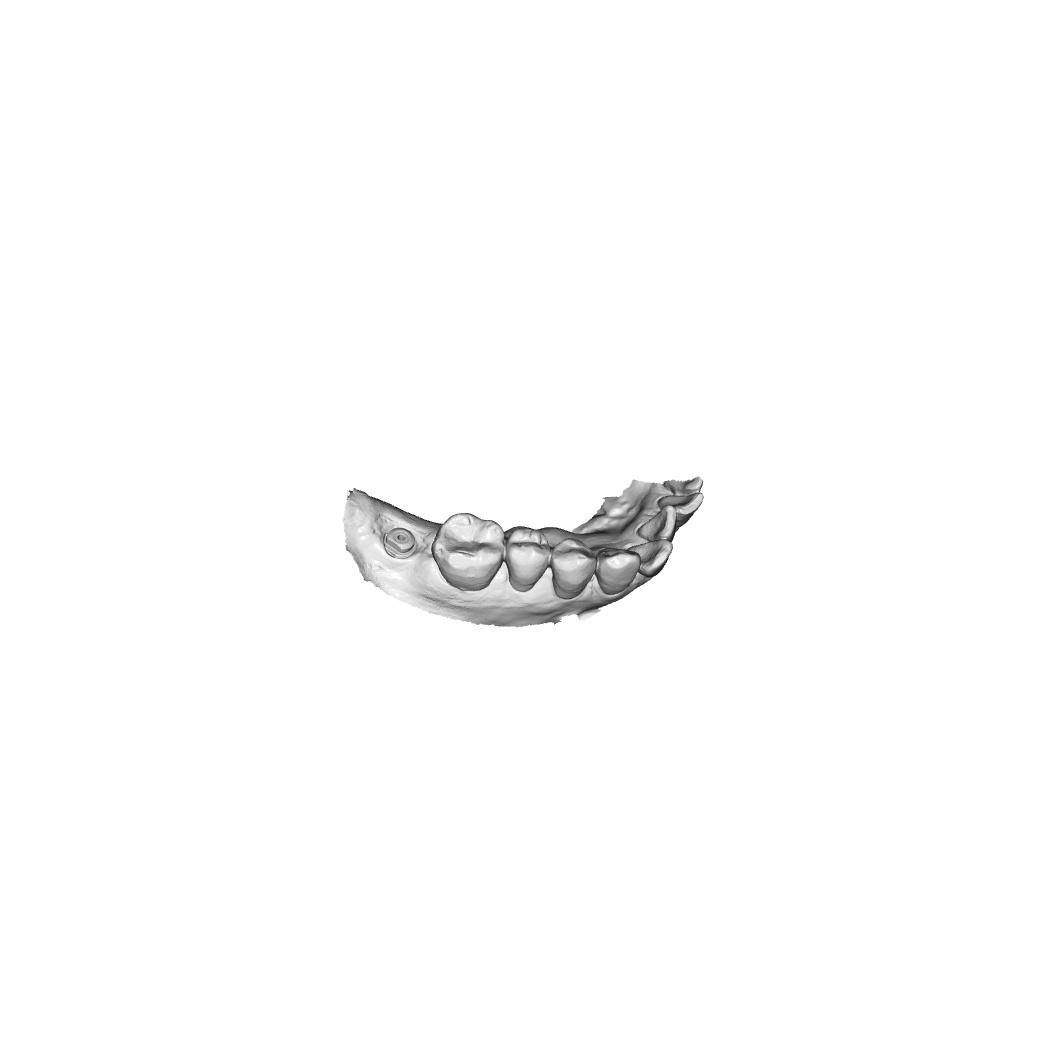canine: (595, 546, 642, 596)
implant: (382, 526, 419, 560)
incisor: (624, 539, 674, 578), (657, 492, 705, 528), (637, 504, 678, 543)
molar: (431, 512, 506, 592)
premolar: (505, 527, 551, 593), (550, 537, 598, 600)
